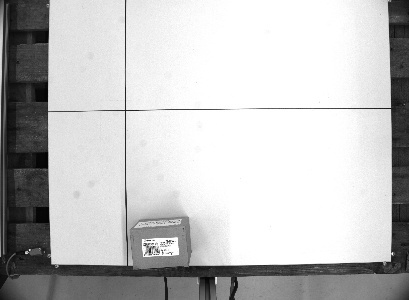b5: (127, 214, 196, 271)
